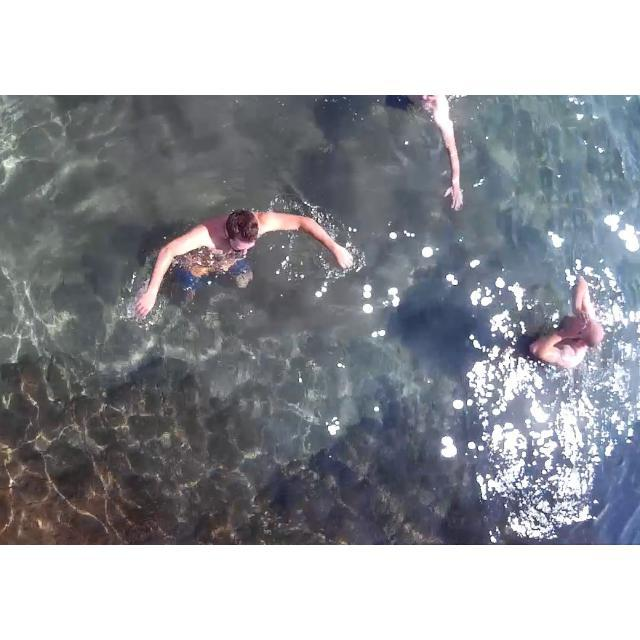human: (133, 194, 370, 326), (323, 95, 512, 187), (518, 263, 619, 380)
